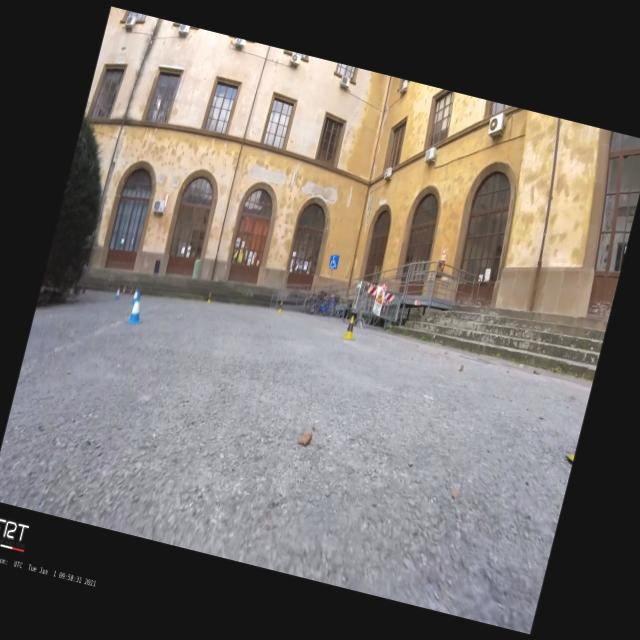blue_cone: (127, 290, 149, 326), (132, 286, 140, 304), (114, 286, 122, 302)
large_orange_cone: (122, 283, 127, 294)
unknown_cone: (128, 286, 134, 294)
yellow_cone: (341, 314, 360, 342), (206, 291, 214, 302), (277, 300, 284, 312)
